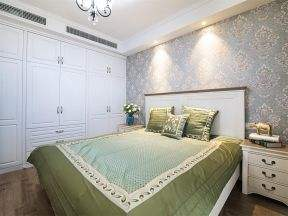床: (18, 128, 242, 212)
枕头: (144, 104, 218, 138)
灯: (75, 0, 113, 23)
